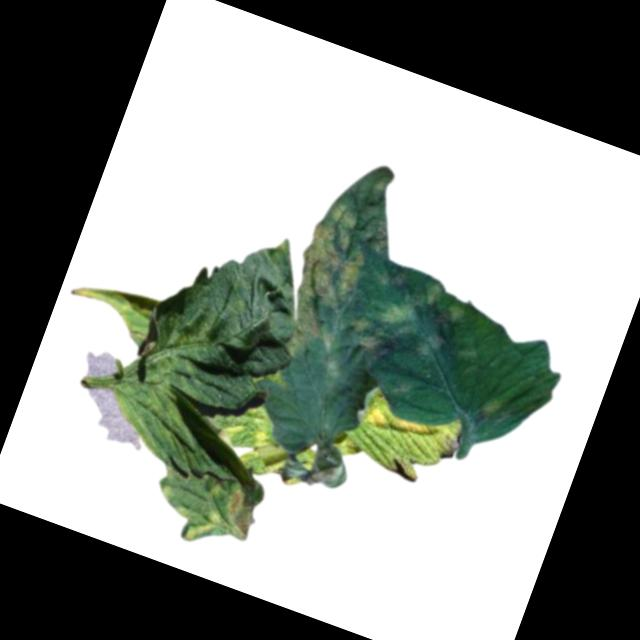Leaf_Mold: (267, 148, 411, 374), (342, 254, 480, 391), (208, 391, 332, 494), (142, 458, 261, 560), (61, 270, 162, 347), (361, 389, 450, 450)
